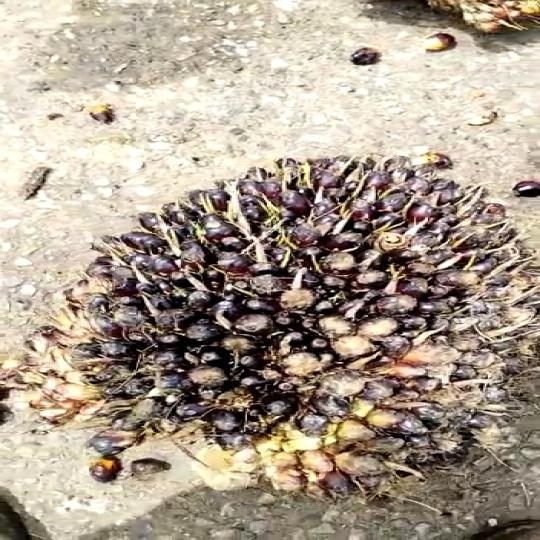mentah: (41, 144, 540, 501)
